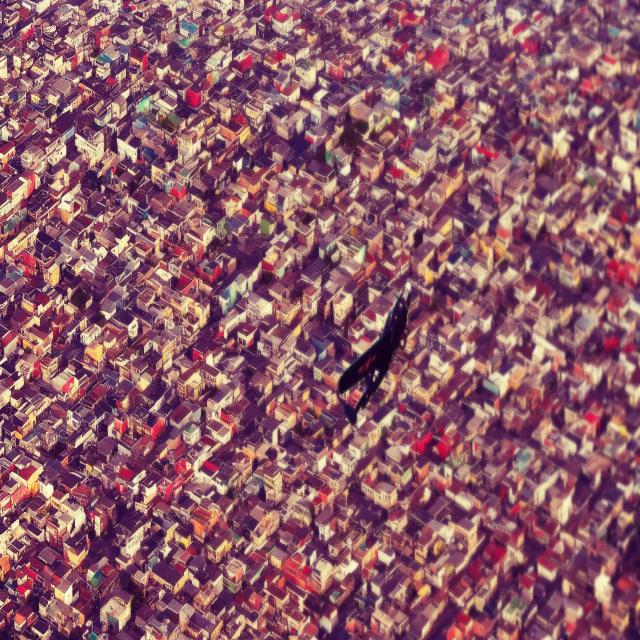airplane: (337, 279, 412, 423)
